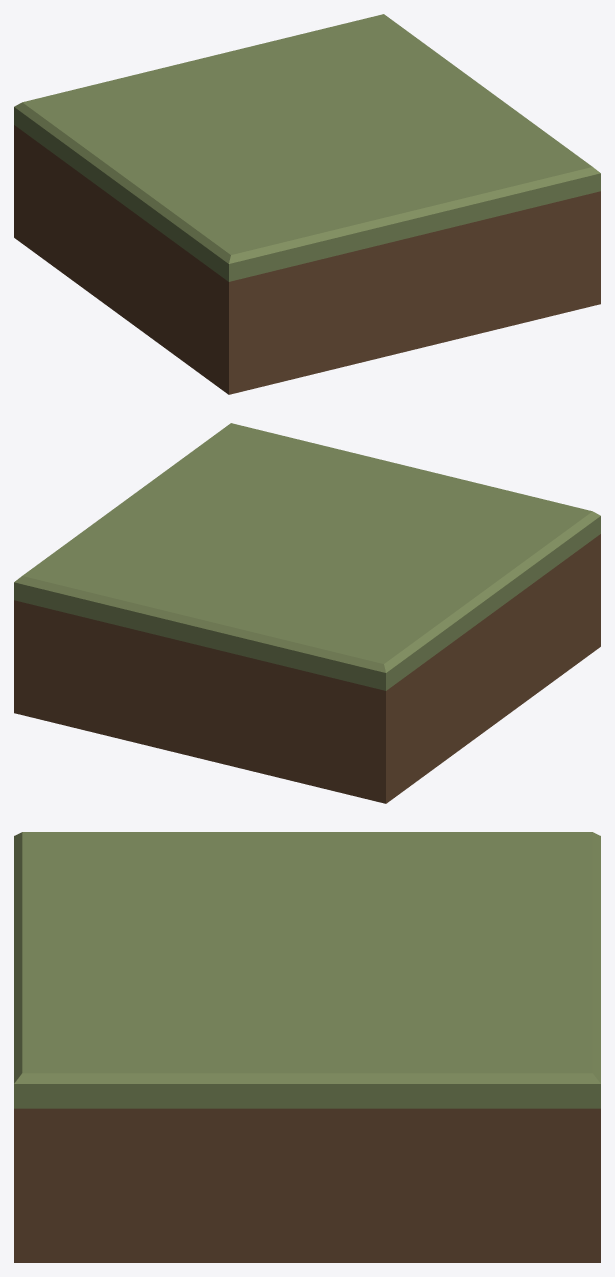
Rendered from Ground A.fbx.
The picture shows the model from 3 angles, top to bottom: view 1: azimuth 30°, elevation 25°; view 2: azimuth 150°, elevation 25°; view 3: azimuth 270°, elevation 25°; orthographic projection. The views are drawn at different scales.
Parts seen in each view (by area): view 1: Ground A; view 2: Ground A; view 3: Ground A.
Part boxes in pixels (bbox=[...]): Ground A: bbox=[14, 14, 600, 394]; Ground A: bbox=[14, 423, 600, 803]; Ground A: bbox=[14, 832, 600, 1262].
Bounding box in the file's own units: 1 × 0.35 × 1.
